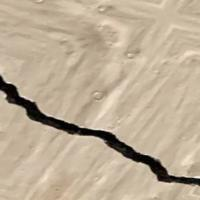crack: (0, 66, 199, 195)
